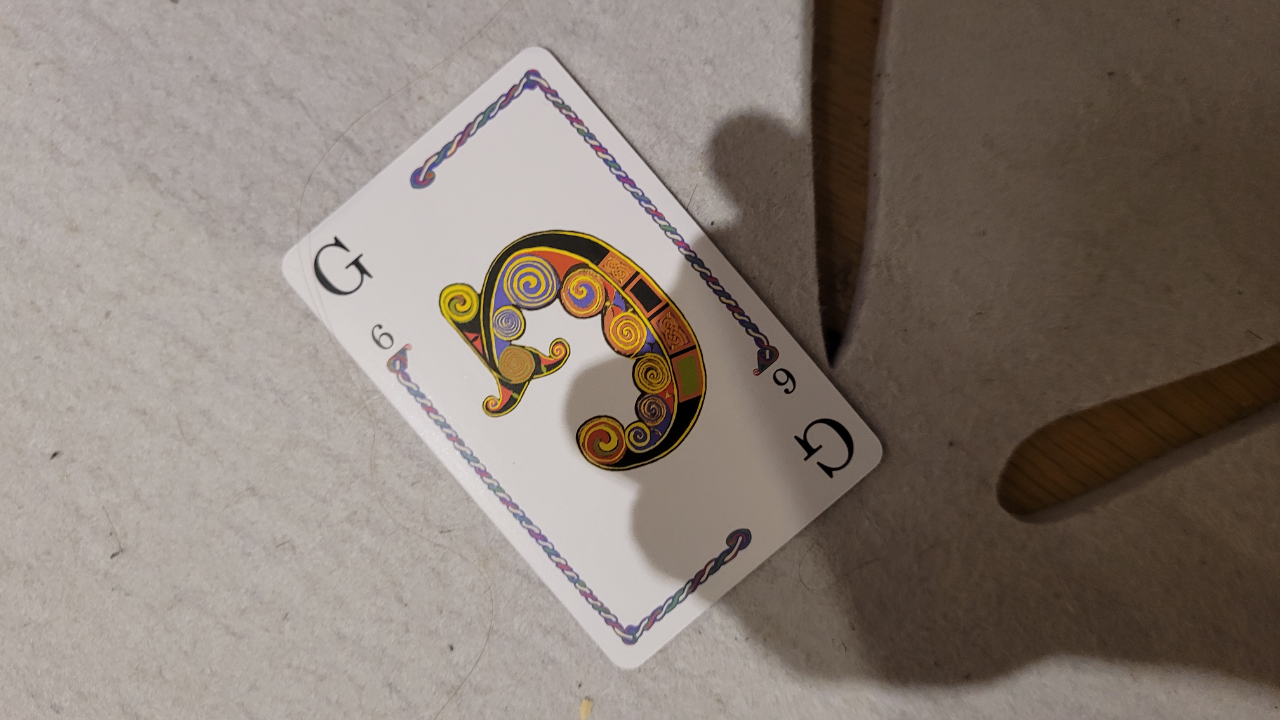quiddler_card: (269, 28, 895, 682)
